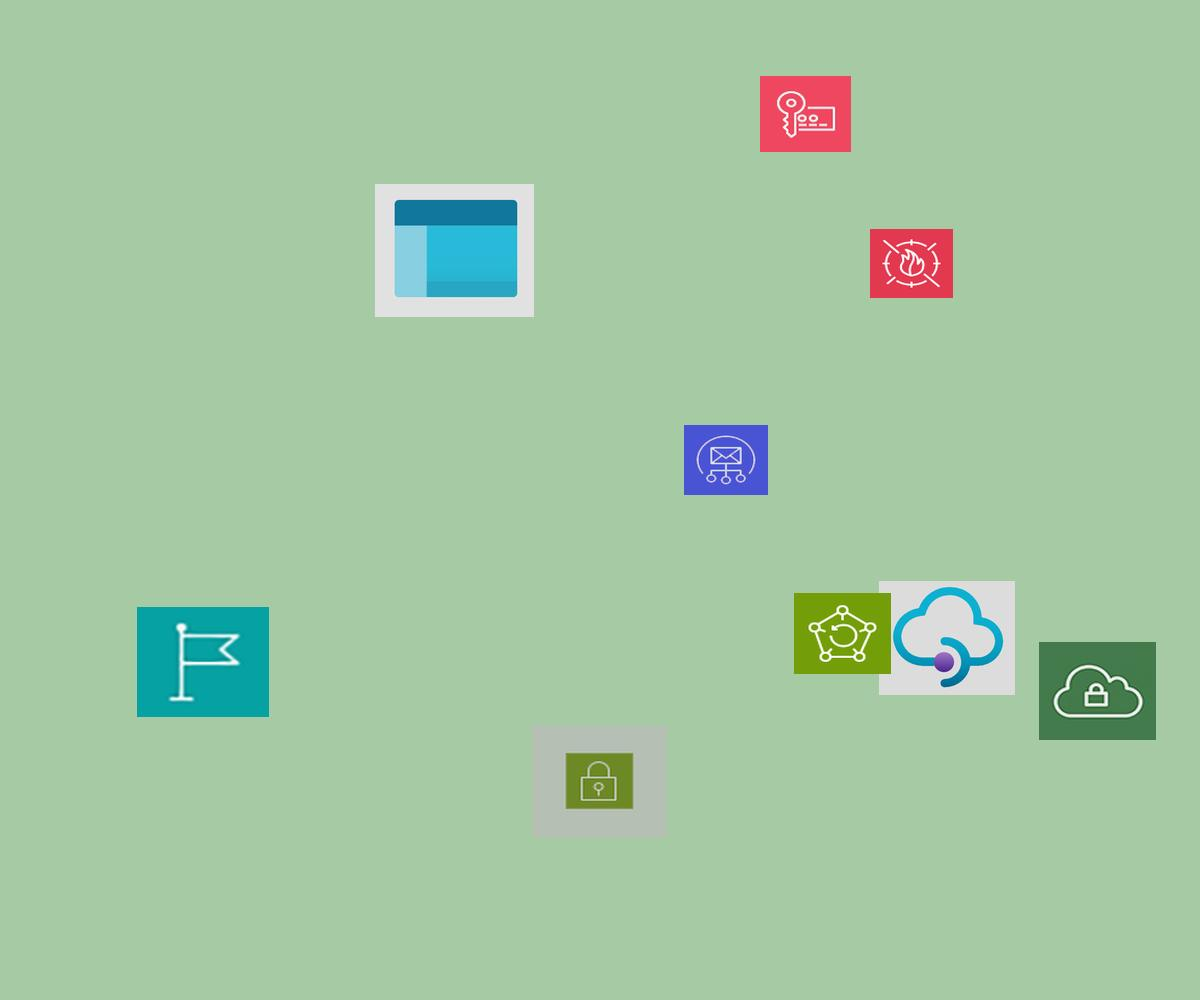AWS-Backup: (794, 593, 891, 674)
AWS-Key-Management-Service: (760, 76, 851, 152)
AWS-Private_vpc: (1039, 642, 1156, 740)
AWS-Public-subnet: (532, 725, 667, 837)
AWS-Region: (137, 607, 269, 717)
AWS-Simple-Email-Service: (684, 425, 768, 495)
AWS-WAF: (870, 229, 953, 298)
Azure_api_gateway: (879, 581, 1015, 695)
Azure_management-portal: (375, 184, 534, 317)
